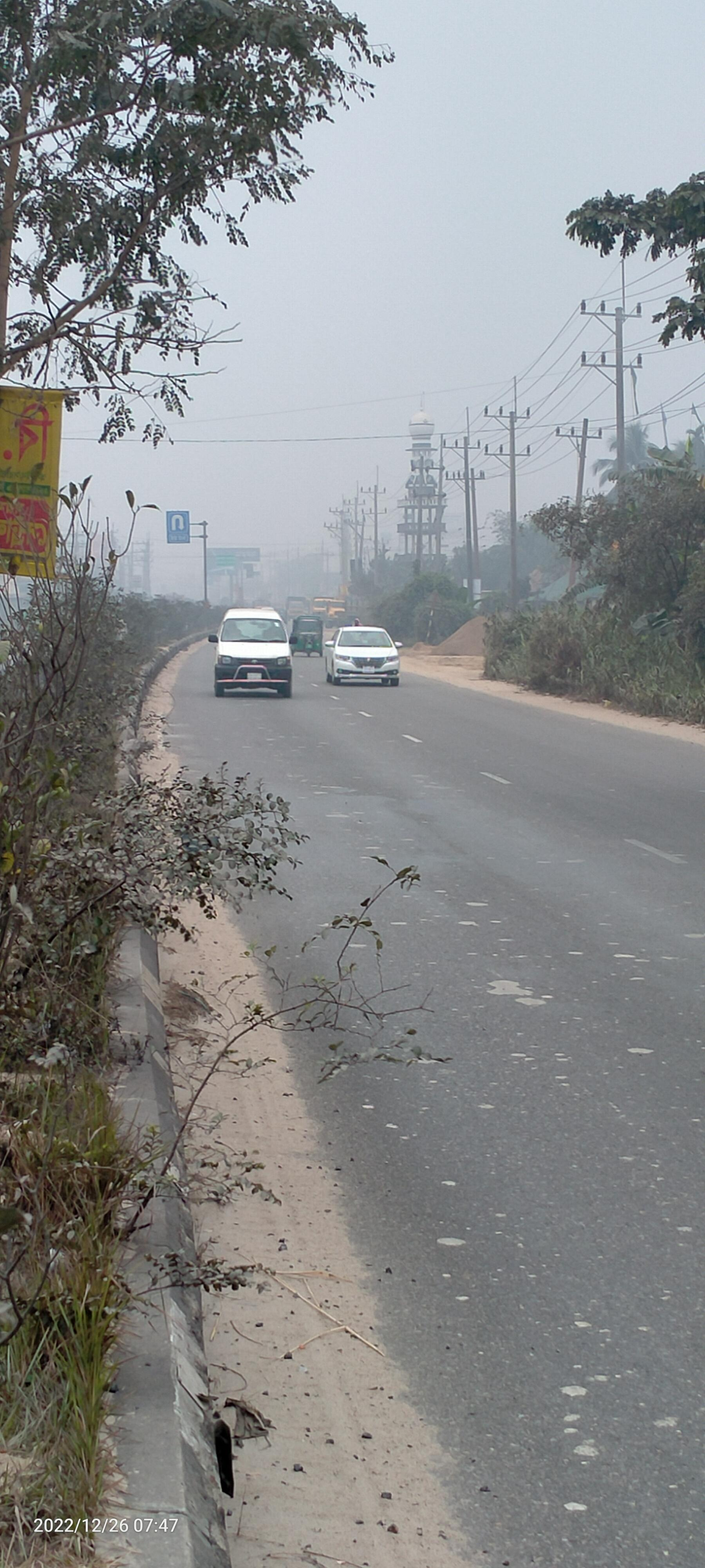Car: (206, 605, 303, 701), (329, 620, 397, 687)
